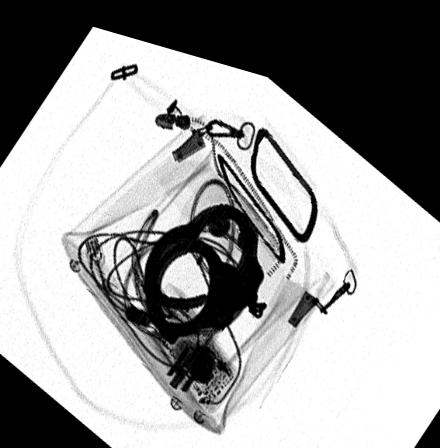HandCuffs: (140, 185, 274, 339)
